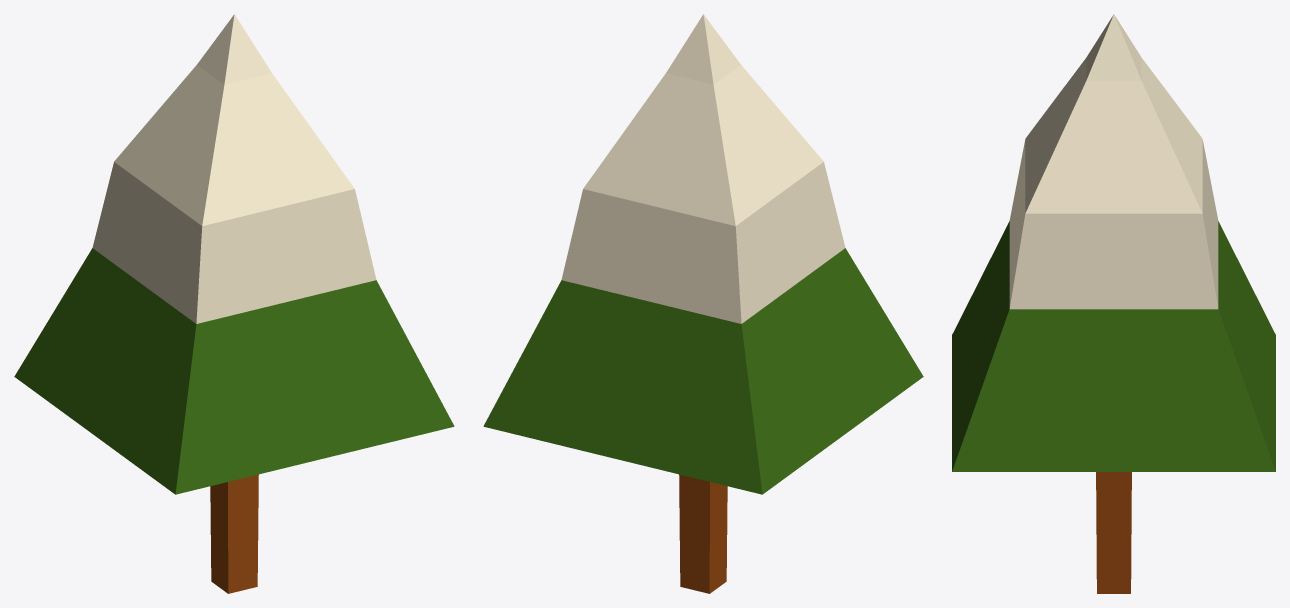
Rendered from Tree_34_Winter.fbx.
3 views of the same model, side by side, from view 1: azimuth 30°, elevation 25°; view 2: azimuth 150°, elevation 25°; view 3: azimuth 270°, elevation 25° (orthographic).
Visible parts, largest first — view 1: Tree_34_Winter; view 2: Tree_34_Winter; view 3: Tree_34_Winter.
Part boxes in pixels (box(x1,y1,x2,y2)): Tree_34_Winter: box(14, 14, 454, 593); Tree_34_Winter: box(483, 14, 923, 593); Tree_34_Winter: box(952, 14, 1275, 593).
Bounding box in the file's own units: 134 × 262 × 134.
